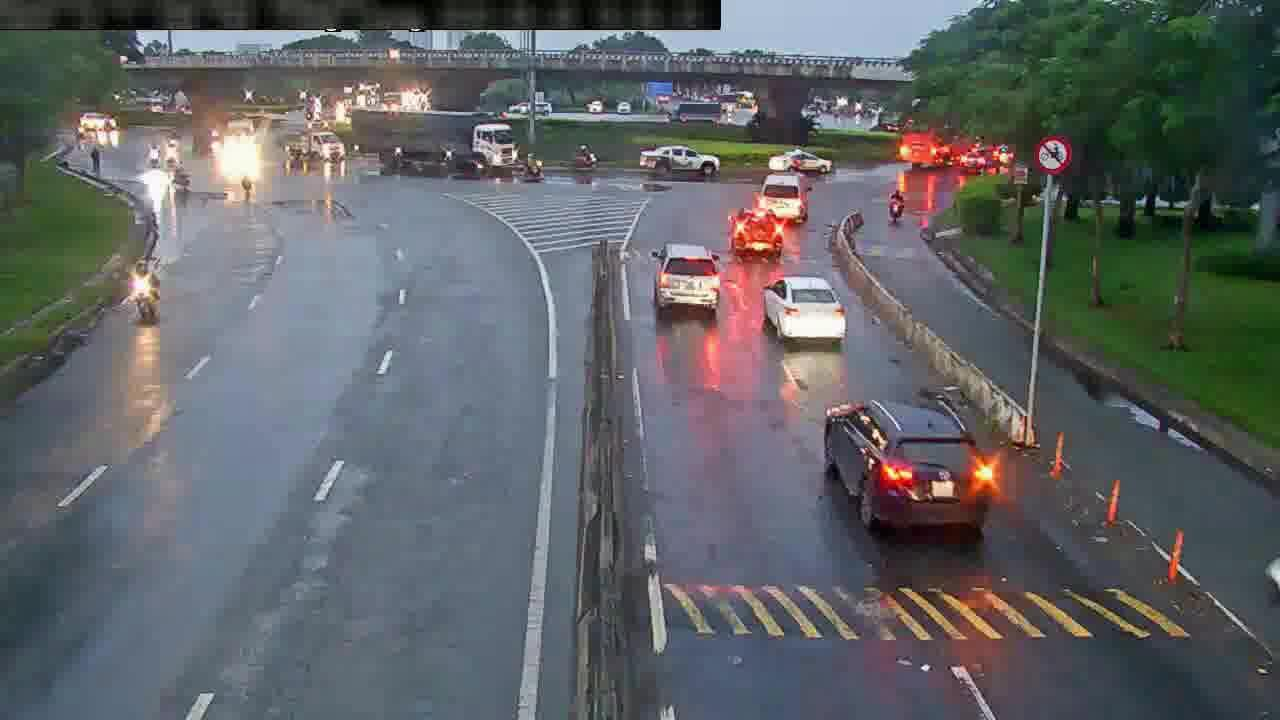14: (757, 169, 814, 224)
8: (352, 108, 517, 181)
container: (821, 398, 996, 530), (651, 238, 725, 316), (766, 274, 846, 341), (638, 139, 725, 177), (728, 206, 785, 263), (286, 130, 351, 168)
motorbike: (124, 257, 161, 315), (511, 153, 548, 185), (571, 142, 600, 173), (887, 184, 905, 223)
